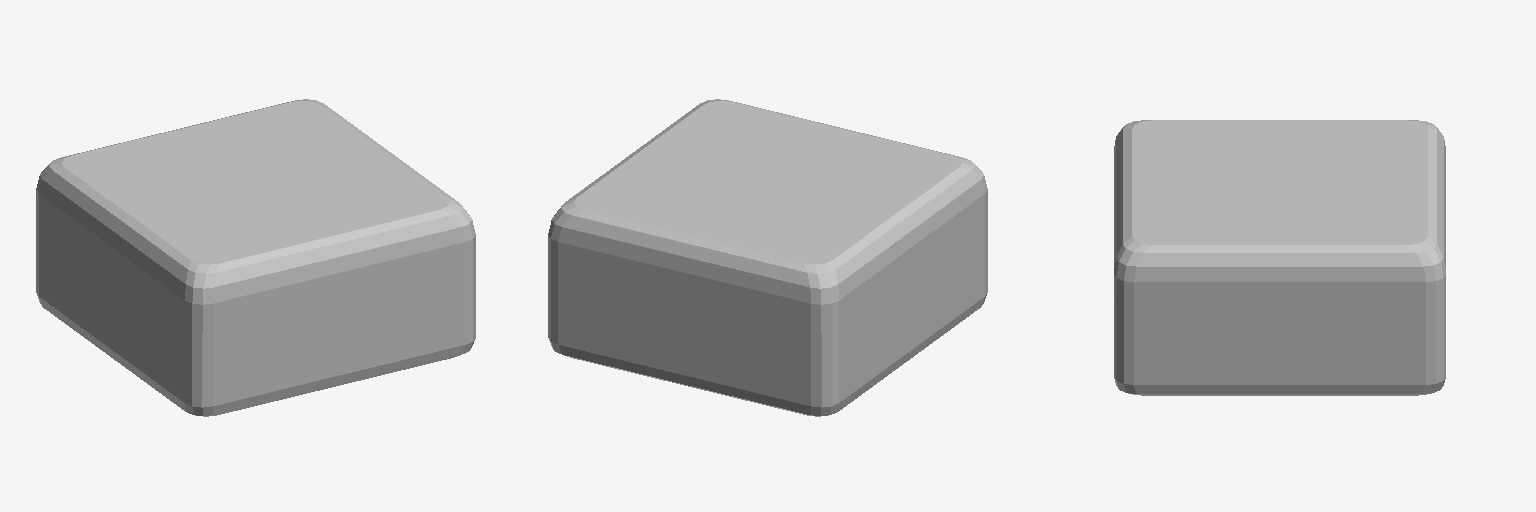
Rendered from tile_basic.obj.
3 renders of one model, left to right at view 1: azimuth 30°, elevation 25°; view 2: azimuth 150°, elevation 25°; view 3: azimuth 270°, elevation 25°, orthographic.
Parts seen in each view (by area): view 1: tile_basic_Cube.013; view 2: tile_basic_Cube.013; view 3: tile_basic_Cube.013.
Boxes of the visible parts, x1,y1,x2,y2 form: tile_basic_Cube.013: [36, 99, 475, 416]; tile_basic_Cube.013: [548, 99, 987, 416]; tile_basic_Cube.013: [1114, 120, 1445, 395].
Size of the model in its own units: 1.03 by 0.5 by 1.03.